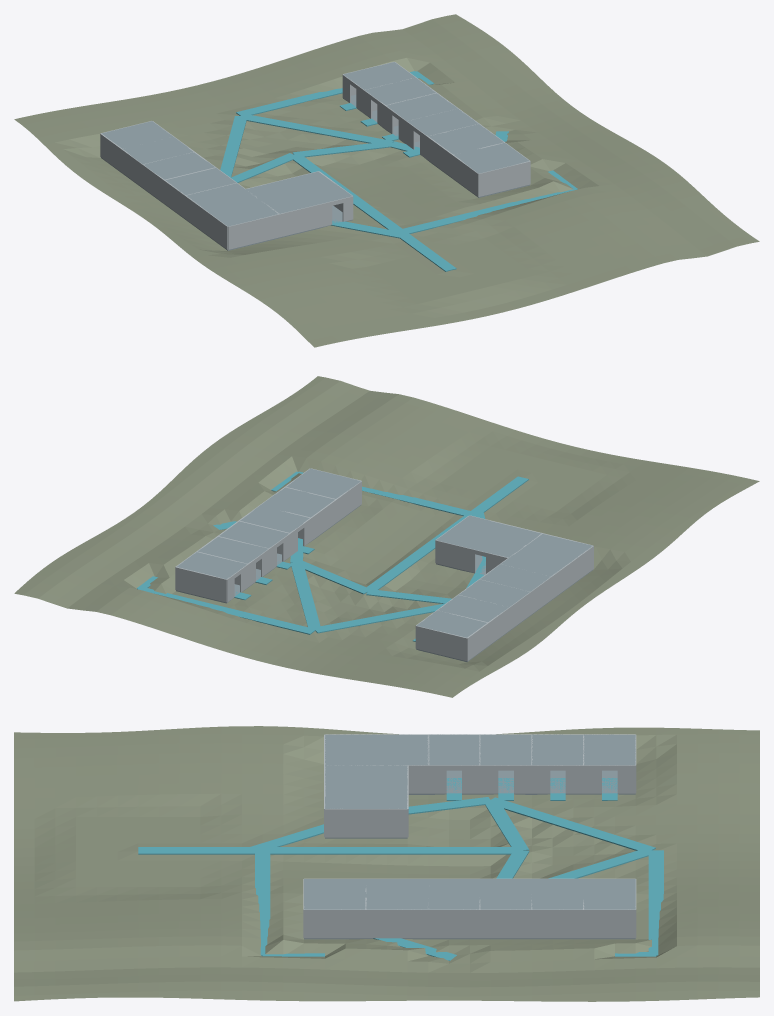
File: rough-shell.glb
3 views of the same model, one above another, from view 1: azimuth 30°, elevation 25°; view 2: azimuth 150°, elevation 25°; view 3: azimuth 270°, elevation 25° (orthographic). The views are drawn at different scales.
Parts seen in each view (by area): view 1: Authored roadside terrain, Ceiling cap office, Ceiling cap manager, Ceiling cap plant, Ceiling cap laundry, Wall office S, Wall plant S, Wall manager S, Ceiling cap room5, Ceiling cap room1, Ceiling cap room2, Ceiling cap room6 (+14 smaller); view 2: Authored roadside terrain, Ceiling cap office, Ceiling cap manager, Ceiling cap plant, Ceiling cap laundry, Wall room5 N, Wall room1 N, Ceiling cap room4, Ceiling cap room3, Ceiling cap room2, Ceiling cap room5, Ceiling cap room1 (+15 smaller); view 3: Authored roadside terrain, Ceiling cap office, Ceiling cap manager, Wall office E, route-03 support 0, Ceiling cap laundry, Ceiling cap plant, Wall laundry E, Wall plant E, Ceiling cap room8, Ceiling cap room3, Ceiling cap room1 (+28 smaller).
Boxes of the visible parts, x1,y1,x2,y2 form: Authored roadside terrain: (14, 14, 759, 347); Ceiling cap office: (246, 171, 352, 213); Ceiling cap manager: (186, 183, 278, 226); Ceiling cap plant: (454, 143, 529, 173); Ceiling cap laundry: (428, 124, 503, 154); Wall office S: (279, 201, 332, 237); Wall plant S: (478, 161, 530, 196); Wall manager S: (228, 214, 279, 249); Ceiling cap room5: (343, 62, 415, 89); Ceiling cap room1: (102, 121, 172, 148); Ceiling cap room2: (123, 136, 193, 164); Ceiling cap room6: (365, 77, 435, 105); Authored roadside terrain: (14, 376, 759, 697); Ceiling cap office: (436, 515, 541, 557); Ceiling cap manager: (501, 534, 592, 576); Ceiling cap plant: (286, 468, 360, 498); Ceiling cap laundry: (260, 487, 334, 517); Wall room5 N: (175, 567, 226, 602); Wall room1 N: (416, 625, 467, 661); Ceiling cap room4: (480, 564, 550, 591); Ceiling cap room3: (459, 579, 529, 607); Ceiling cap room2: (438, 595, 508, 622); Ceiling cap room5: (176, 552, 246, 579); Ceiling cap room1: (416, 610, 486, 637); Authored roadside terrain: (14, 726, 759, 1001); Ceiling cap office: (325, 765, 407, 808); Ceiling cap manager: (325, 734, 428, 765); Wall office E: (325, 808, 407, 837); route-03 support 0: (252, 847, 521, 854); Ceiling cap laundry: (366, 879, 428, 909); Ceiling cap plant: (304, 879, 366, 909); Wall laundry E: (366, 909, 428, 938); Wall plant E: (304, 909, 366, 938); Ceiling cap room8: (428, 879, 480, 909); Ceiling cap room3: (480, 734, 531, 765); Ceiling cap room1: (584, 734, 635, 765).
Size of the model in its own units: 61.8 by 3.76 by 72.
